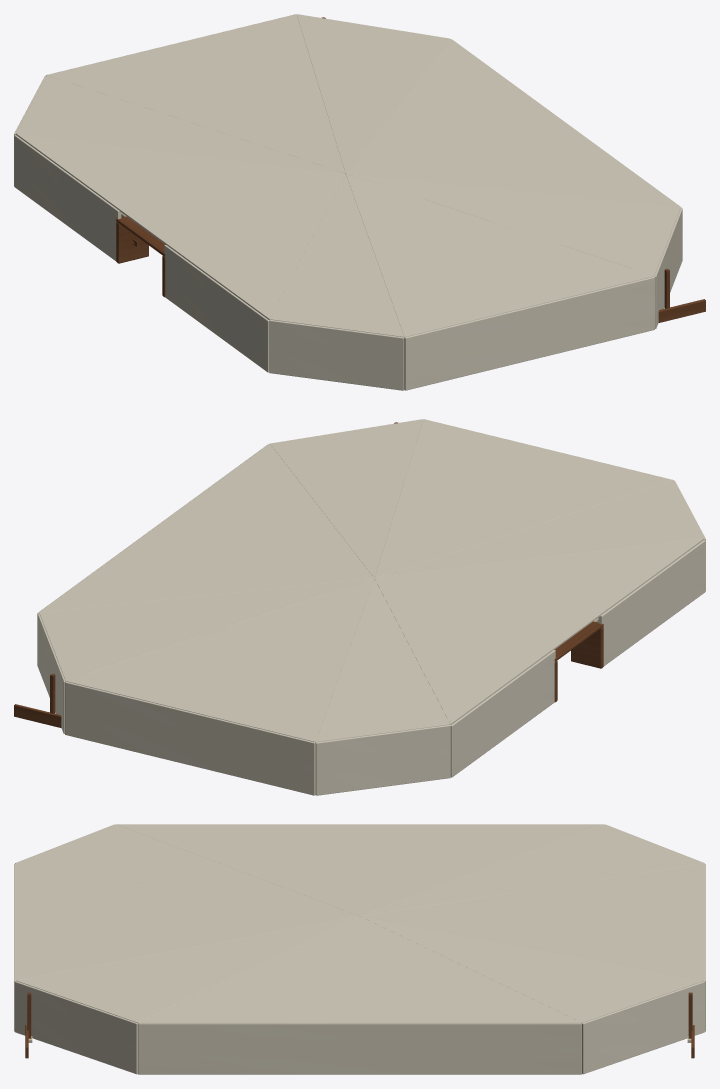
The model's file is SOL_D12_directory_10_entry001.glb.
The picture shows the model from 3 angles, top to bottom: view 1: azimuth 30°, elevation 25°; view 2: azimuth 150°, elevation 25°; view 3: azimuth 270°, elevation 25°; orthographic projection. The views are drawn at different scales.
Visible parts, largest first — view 1: D12_directory_10__crown_wedge7, D12_directory_10__crown_wedge3, D12_directory_10__crown_wedge5, D12_directory_10__crown_wedge1, D12_directory_10__enclosure_5, D12_directory_10__crown_wedge4, D12_directory_10__crown_wedge2, D12_directory_10__crown_wedge6, D12_directory_10__crown_wedge0, D12_directory_10__enclosure_6, D12_directory_10__entry_left, D12_directory_10__entry_right (+4 smaller); view 2: D12_directory_10__crown_wedge7, D12_directory_10__crown_wedge3, D12_directory_10__crown_wedge1, D12_directory_10__crown_wedge5, D12_directory_10__enclosure_1, D12_directory_10__crown_wedge2, D12_directory_10__crown_wedge4, D12_directory_10__crown_wedge0, D12_directory_10__crown_wedge6, D12_directory_10__enclosure_0, D12_directory_10__entry_right, D12_directory_10__entry_left (+4 smaller); view 3: D12_directory_10__crown_wedge3, D12_directory_10__enclosure_3, D12_directory_10__crown_wedge7, D12_directory_10__crown_wedge1, D12_directory_10__crown_wedge5, D12_directory_10__crown_wedge2, D12_directory_10__crown_wedge4, D12_directory_10__crown_wedge0, D12_directory_10__crown_wedge6, D12_directory_10__enclosure_2, D12_directory_10__enclosure_4.
Boxes of the visible parts, <box> form: D12_directory_10__crown_wedge7: <box>16,133,345,320</box>; D12_directory_10__crown_wedge3: <box>346,39,679,207</box>; D12_directory_10__crown_wedge5: <box>346,173,653,337</box>; D12_directory_10__crown_wedge1: <box>47,14,345,173</box>; D12_directory_10__enclosure_5: <box>404,276,654,390</box>; D12_directory_10__crown_wedge4: <box>346,173,680,276</box>; D12_directory_10__crown_wedge2: <box>296,14,449,172</box>; D12_directory_10__crown_wedge6: <box>269,174,404,337</box>; D12_directory_10__crown_wedge0: <box>16,75,344,173</box>; D12_directory_10__enclosure_6: <box>269,319,404,390</box>; D12_directory_10__entry_left: <box>164,245,269,372</box>; D12_directory_10__entry_right: <box>14,135,121,261</box>; D12_directory_10__crown_wedge7: <box>374,538,703,725</box>; D12_directory_10__crown_wedge3: <box>40,444,373,612</box>; D12_directory_10__crown_wedge1: <box>66,578,373,742</box>; D12_directory_10__crown_wedge5: <box>374,419,672,578</box>; D12_directory_10__enclosure_1: <box>65,681,315,795</box>; D12_directory_10__crown_wedge2: <box>39,578,373,681</box>; D12_directory_10__crown_wedge4: <box>270,419,423,577</box>; D12_directory_10__crown_wedge0: <box>315,579,450,742</box>; D12_directory_10__crown_wedge6: <box>375,480,703,578</box>; D12_directory_10__enclosure_0: <box>315,724,450,795</box>; D12_directory_10__entry_right: <box>450,650,555,777</box>; D12_directory_10__entry_left: <box>598,540,705,666</box>; D12_directory_10__crown_wedge3: <box>138,916,581,1023</box>; D12_directory_10__enclosure_3: <box>138,1023,581,1074</box>; D12_directory_10__crown_wedge7: <box>116,824,603,915</box>; D12_directory_10__crown_wedge1: <box>361,863,703,980</box>; D12_directory_10__crown_wedge5: <box>16,863,358,980</box>; D12_directory_10__crown_wedge2: <box>360,916,703,1022</box>; D12_directory_10__crown_wedge4: <box>16,916,359,1022</box>; D12_directory_10__crown_wedge0: <box>361,824,703,915</box>; D12_directory_10__crown_wedge6: <box>16,824,358,915</box>; D12_directory_10__enclosure_2: <box>582,981,704,1074</box>; D12_directory_10__enclosure_4: <box>15,981,137,1074</box>.
Bounding box in the file's own units: 42.73 × 5.43 × 62.36.
20 materials, 20 textured.
